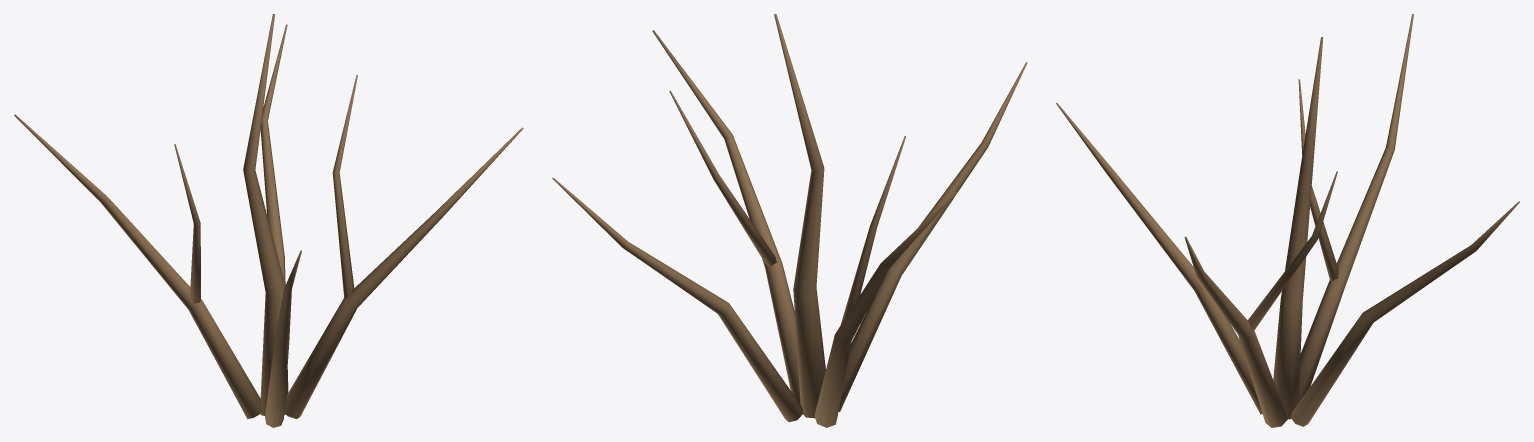
Rendered from SM_Bush_Stems.fbx.
The picture shows the model from 3 angles, left to right: view 1: azimuth 30°, elevation 25°; view 2: azimuth 150°, elevation 25°; view 3: azimuth 270°, elevation 25°; orthographic projection. The views are drawn at different scales.
Visible parts, largest first — view 1: SM_Bush_Stems; view 2: SM_Bush_Stems; view 3: SM_Bush_Stems.
Boxes of the visible parts, x1,y1,x2,y2 form: SM_Bush_Stems: [14, 14, 523, 427]; SM_Bush_Stems: [552, 14, 1027, 427]; SM_Bush_Stems: [1056, 14, 1519, 427].
Size of the model in its own units: 61.17 by 61.17 by 56.76.
